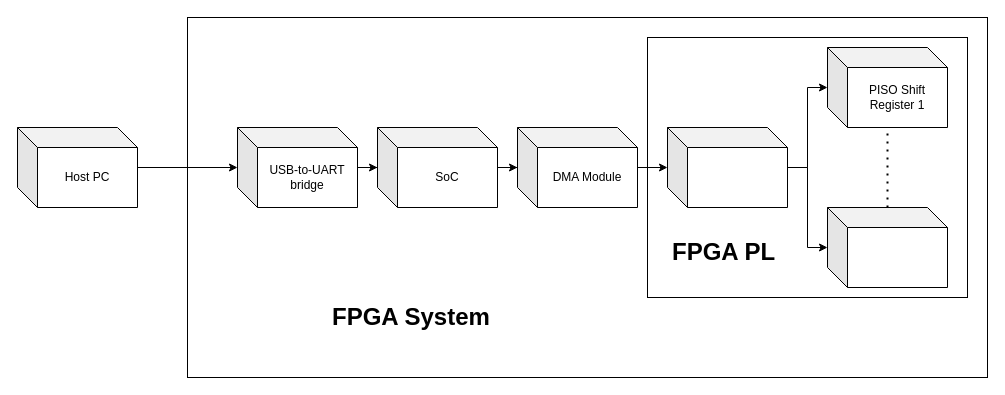
Some shapes in this 1005 by 395 pixel diagram are drawn without their labels. Here are the shapes that lost their labels. From the top down, the centre of each, then its label:
the point at 727,167: Channel Controller
the point at 887,247: PISO Shift Register n
